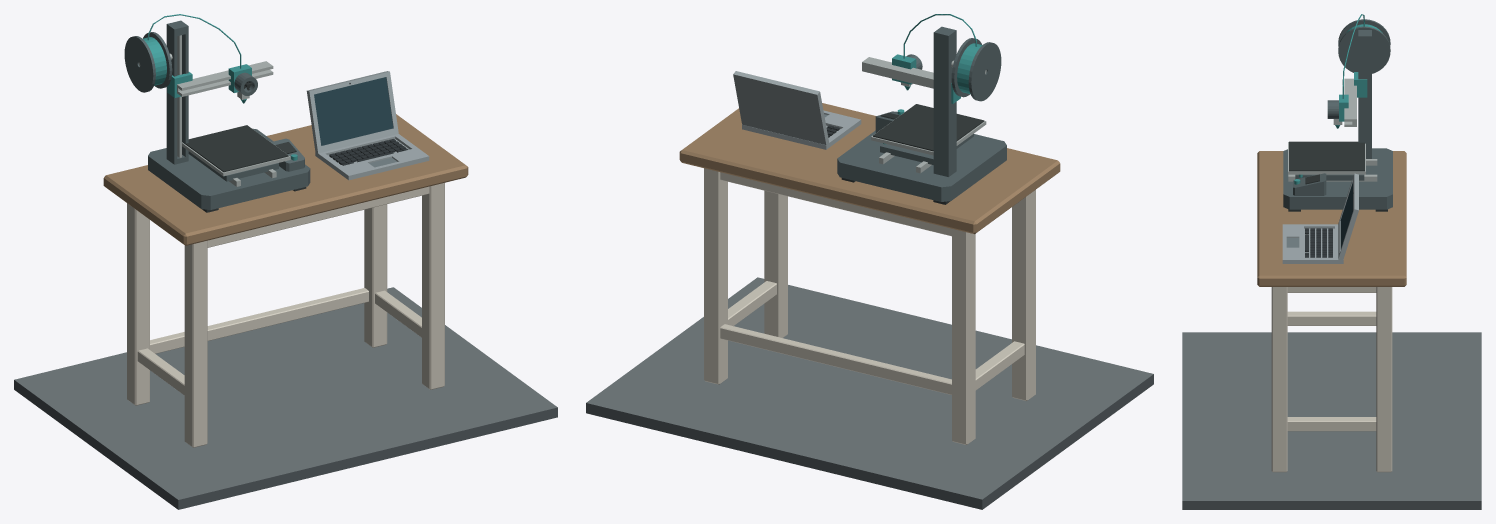
3 renders of one model, left to right at view 1: azimuth 30°, elevation 25°; view 2: azimuth 150°, elevation 25°; view 3: azimuth 270°, elevation 25°, orthographic. The views are drawn at different scales.
Visible parts, largest first — view 1: SCENE_ONLY__TechnologyFloor, table__Complete work surface, table__Worktable leg, printer__WholeLowPrinterBase, table__Worktable leg.002, table__Worktable leg.001, computer__WholeBlankInsetDisplay, table__Worktable leg.003, table__Rear lower brace, printer__WholeBlankBuildSurface, printer__WholeOpenGuideColumn, computer__WholeDualWellPortableBase (+6 smaller); view 2: SCENE_ONLY__TechnologyFloor, table__Complete work surface, printer__WholeLowPrinterBase, table__Worktable leg.001, table__Worktable leg.003, computer__WholeRecessedScreenLid, table__Worktable leg, table__Rear lower brace, printer__WholeOpenGuideColumn, table__Worktable leg.002, printer__WholeBlankBuildSurface, printer__WholeBoredDoubleFlangeSpool (+6 smaller); view 3: SCENE_ONLY__TechnologyFloor, table__Complete work surface, printer__WholeLowPrinterBase, table__Worktable leg.002, table__Worktable leg.003, printer__WholeBlankBuildSurface, printer__WholeBoredDoubleFlangeSpool, computer__WholeDualWellPortableBase, printer__WholeOpenGuideColumn, table__Side lower stretcher, table__Side lower stretcher.001, computer__WholeRecessedScreenLid (+5 smaller).
Boxes of the visible parts, x1,y1,x2,y2 form: SCENE_ONLY__TechnologyFloor: (14,287,557,509); table__Complete work surface: (103,114,468,245); table__Worktable leg: (184,240,207,447); printer__WholeLowPrinterBase: (148,128,310,209); table__Worktable leg.002: (422,182,444,389); table__Worktable leg.001: (127,203,149,405); computer__WholeBlankInsetDisplay: (314,77,393,145); table__Worktable leg.003: (364,204,387,347); table__Rear lower brace: (150,288,368,353); printer__WholeBlankBuildSurface: (185,125,288,172); printer__WholeOpenGuideColumn: (166,20,188,164); computer__WholeDualWellPortableBase: (315,134,429,180); SCENE_ONLY__TechnologyFloor: (586,277,1153,509); table__Complete work surface: (679,103,1060,234); printer__WholeLowPrinterBase: (837,130,1006,201); table__Worktable leg.001: (952,229,975,444); table__Worktable leg.003: (704,168,727,384); computer__WholeRecessedScreenLid: (733,71,829,146); table__Worktable leg: (1012,190,1035,401); table__Rear lower brace: (720,324,951,394); printer__WholeOpenGuideColumn: (933,26,956,176); table__Worktable leg.002: (764,190,787,337); printer__WholeBlankBuildSurface: (873,104,984,151); printer__WholeBoredDoubleFlangeSpool: (951,38,1001,101); SCENE_ONLY__TechnologyFloor: (1182,332,1481,509); table__Complete work surface: (1257,151,1406,286); printer__WholeLowPrinterBase: (1283,148,1392,209); table__Worktable leg.002: (1271,287,1287,472); table__Worktable leg.003: (1376,287,1392,472); printer__WholeBlankBuildSurface: (1289,141,1364,171); printer__WholeBoredDoubleFlangeSpool: (1338,19,1390,73); computer__WholeDualWellPortableBase: (1282,224,1343,263); printer__WholeOpenGuideColumn: (1358,30,1371,158); table__Side lower stretcher: (1287,311,1376,325); table__Side lower stretcher.001: (1287,417,1376,431); computer__WholeRecessedScreenLid: (1338,173,1358,261).
Size of the model in its own units: 1.6 by 1.62 by 1.2.
